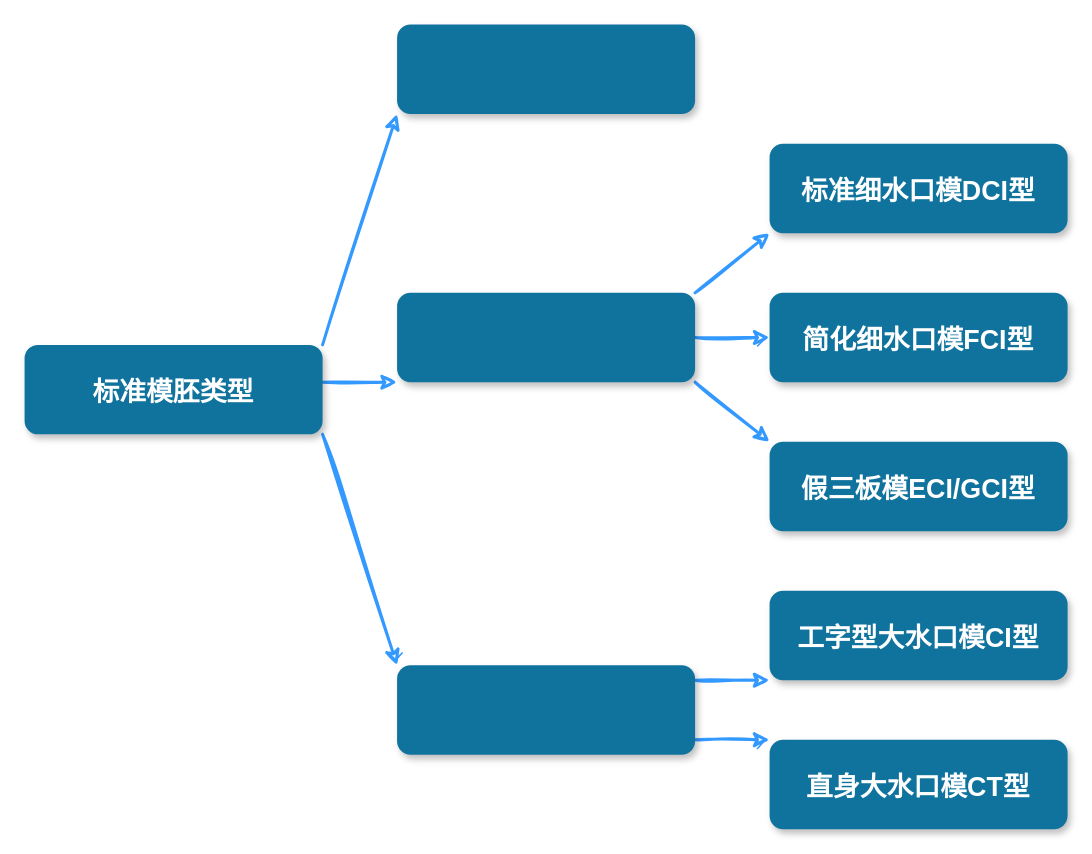
Image size: 1092x854. Some labels were removed from this diagram. The centre of each missing label's shape, as x and y in pixels:
大水口（两板）模: (x=546, y=711)
热流道模胚: (x=546, y=71)
细水口（三板）模: (x=546, y=339)
